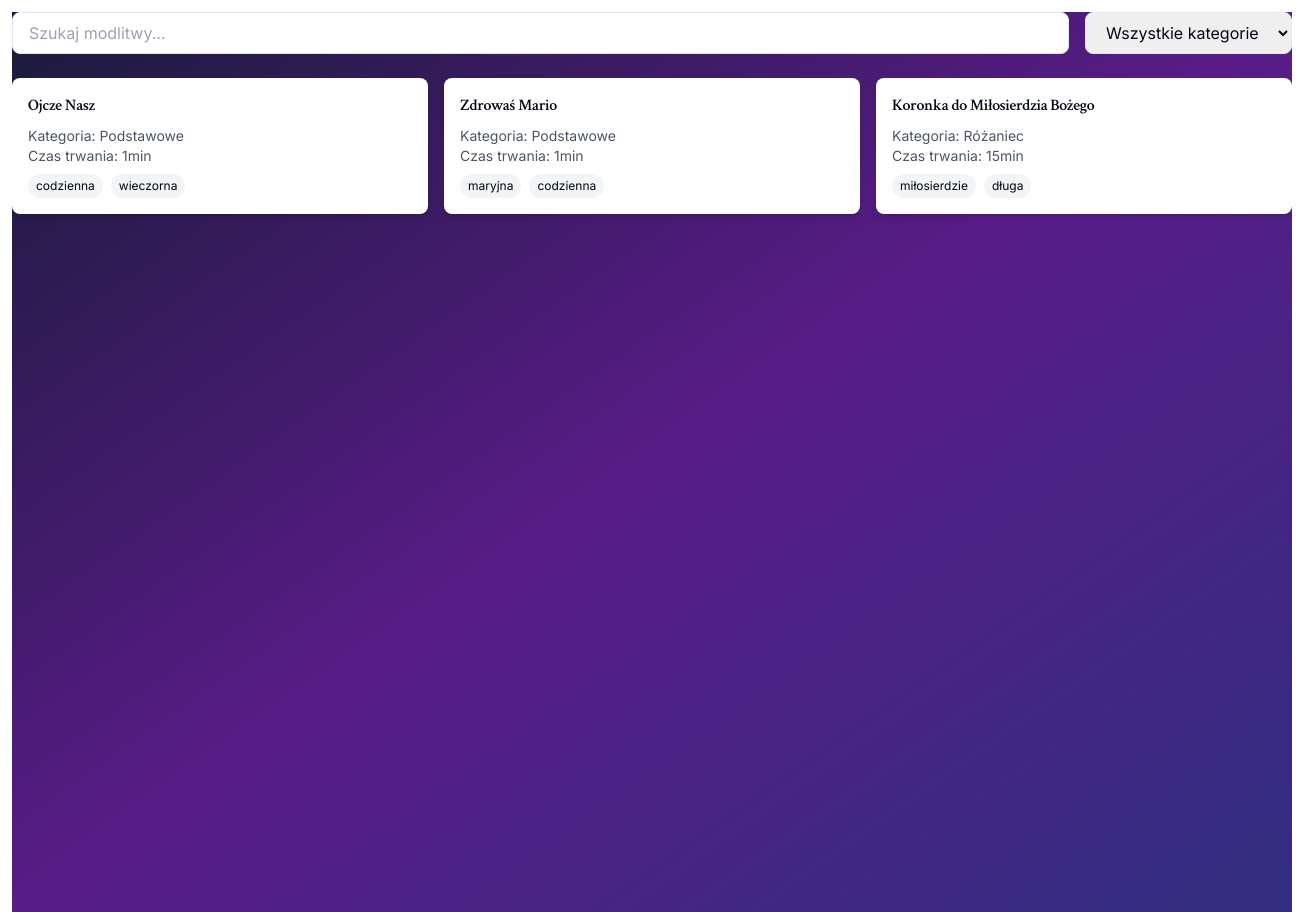
Test case: PrayerMap › filters prayers by category
Select "Różaniec" in the dropdown at {"x": 1188, "y": 33}, box left=1085, top=12, right=1292, bottom=54
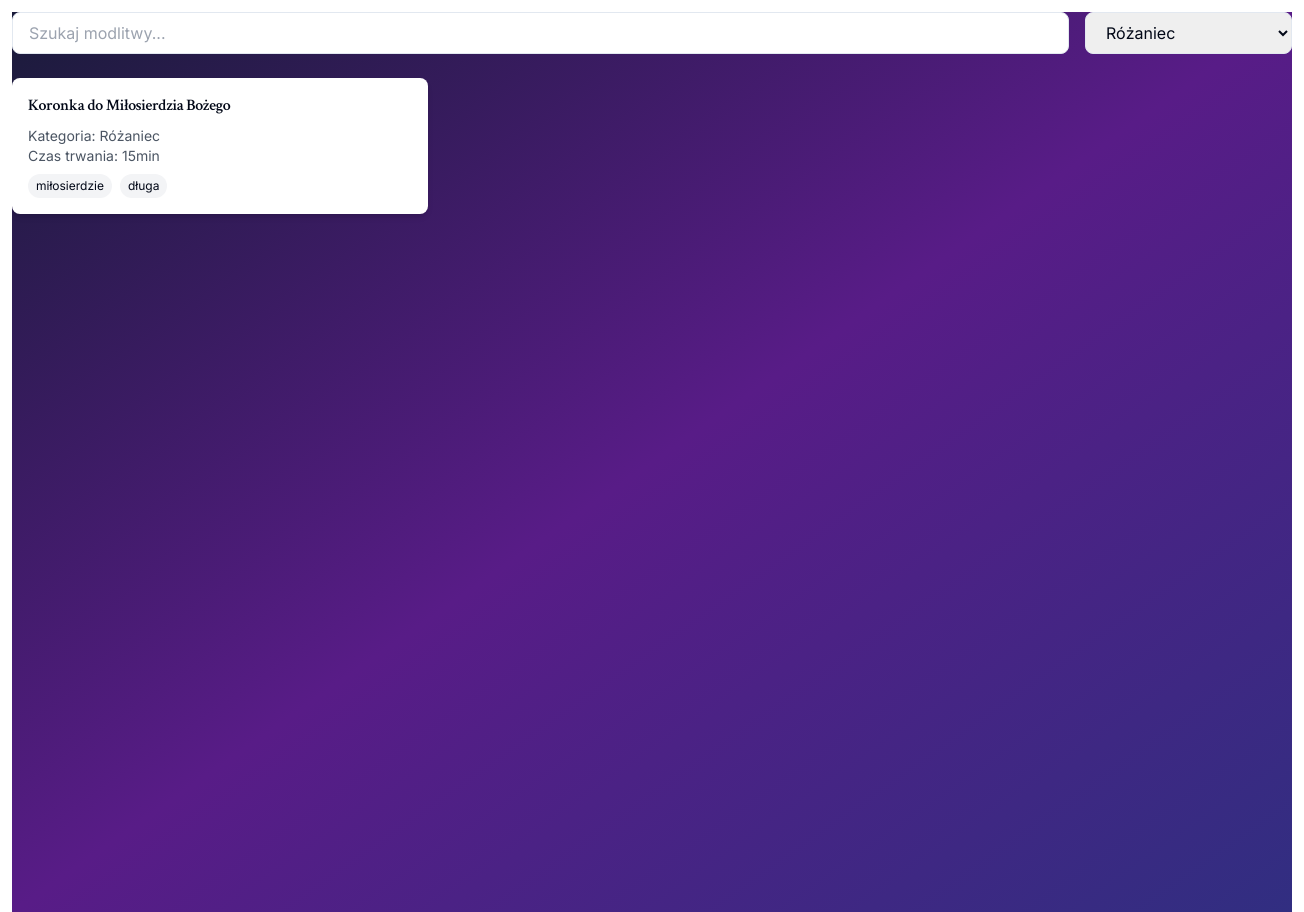
Expected: the heading "Koronka do Miłosierdzia Bożego" is shown, left=28, top=95, right=230, bottom=116
Expected: the button "Ojcze Nasz" is gone
Expected: the button "Zdrowaś Mario" is gone
